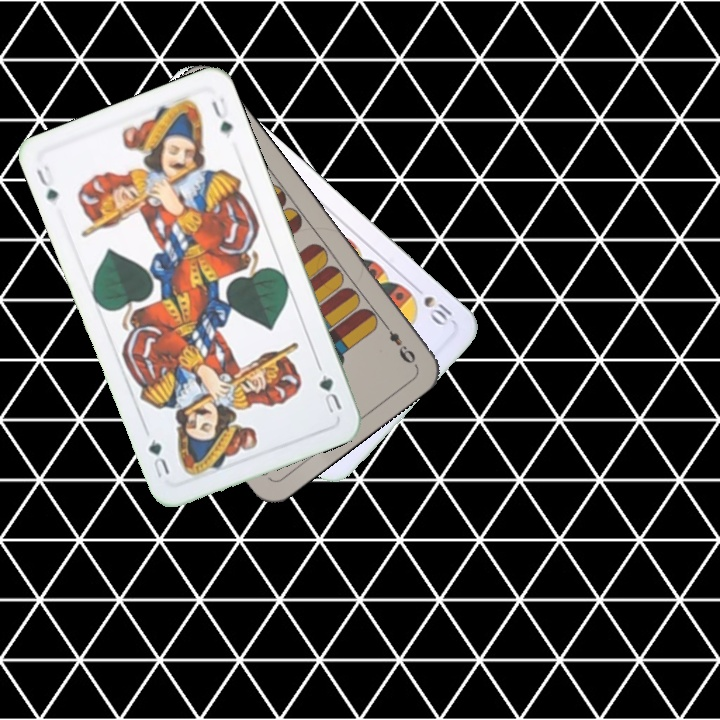E9: (378, 317, 419, 367)
GU: (315, 370, 345, 417), (32, 161, 61, 205)
S10: (408, 280, 458, 329)
